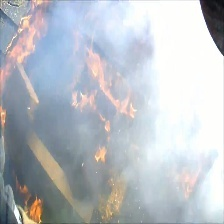fire: (70, 42, 138, 119), (94, 145, 108, 162)
